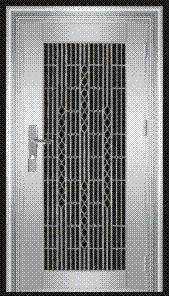door: (16, 15, 156, 293)
